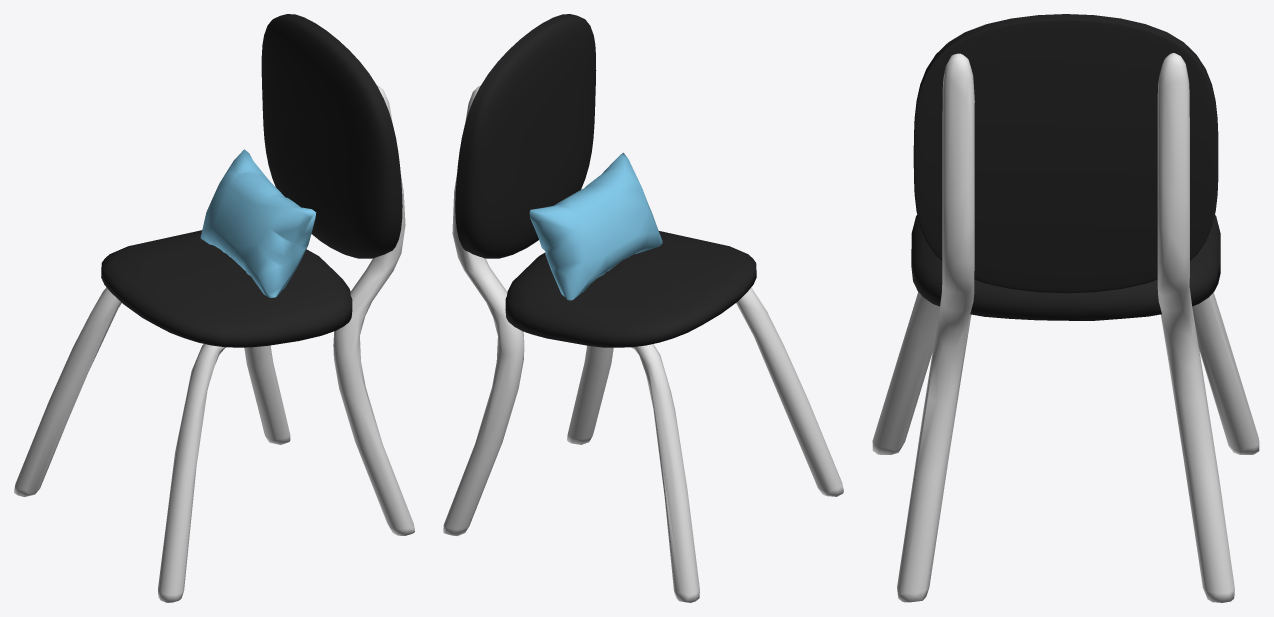
The model's file is Chair.fbx.
The picture shows the model from 3 angles, left to right: view 1: azimuth 30°, elevation 25°; view 2: azimuth 150°, elevation 25°; view 3: azimuth 270°, elevation 25°; orthographic projection. The views are drawn at different scales.
Parts seen in each view (by area): view 1: Cube.056; view 2: Cube.056; view 3: Cube.056.
Boxes of the visible parts, x1,y1,x2,y2 form: Cube.056: [14, 14, 414, 602]; Cube.056: [443, 14, 843, 602]; Cube.056: [872, 14, 1259, 602].
Size of the model in its own units: 127 by 204 by 125.
